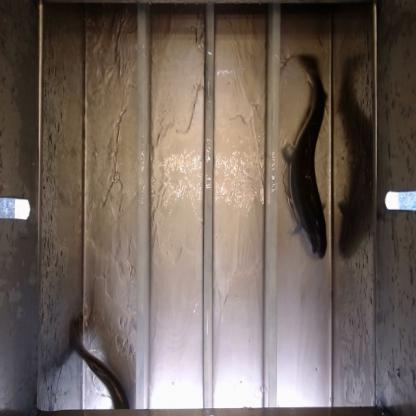pezw: (280, 45, 336, 265), (68, 317, 132, 410)
